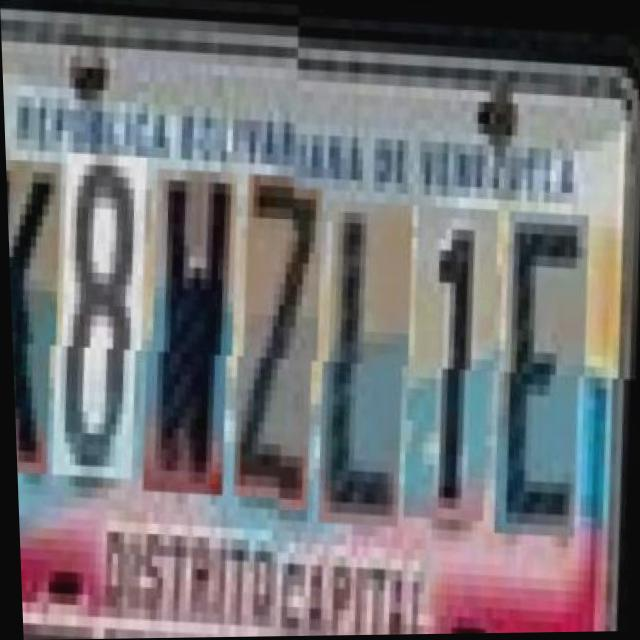1: (403, 198, 508, 514)
8: (51, 160, 157, 488)
e: (493, 203, 600, 531)
k: (5, 168, 70, 484)
l: (316, 194, 423, 522)
w: (141, 175, 248, 503)
z: (233, 180, 332, 508)
